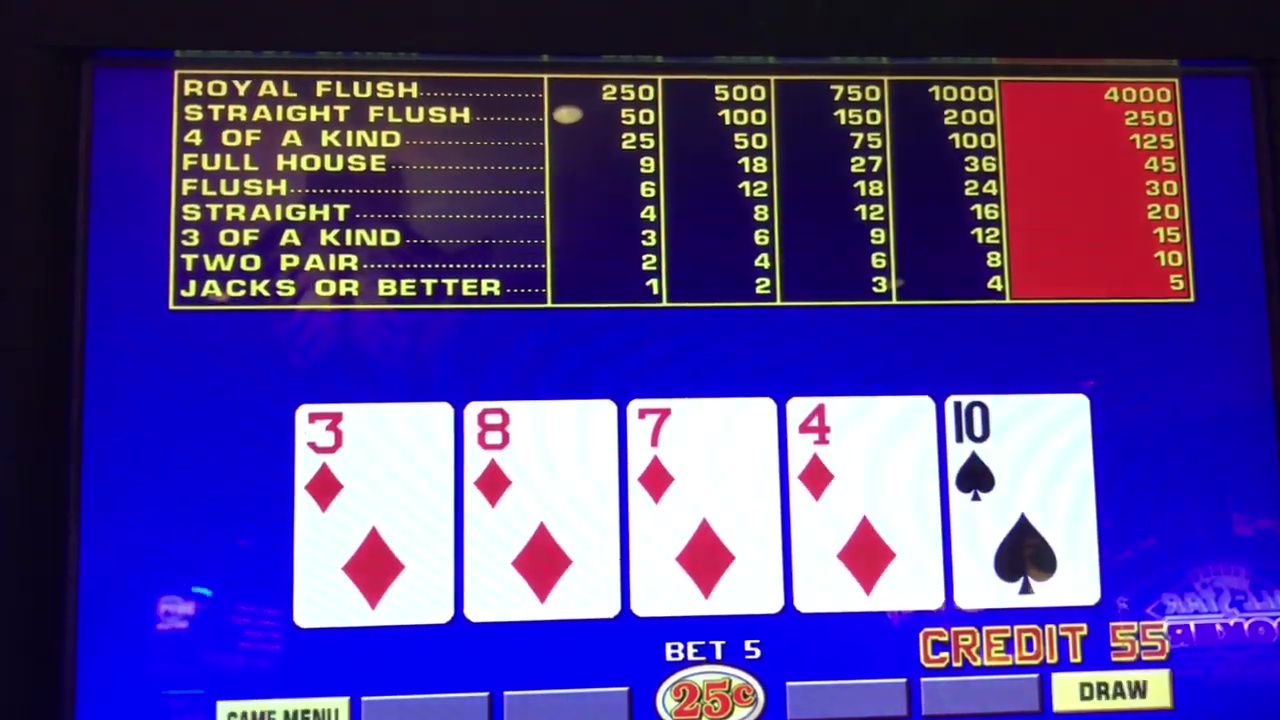D3: (299, 405, 450, 513)
D4: (794, 395, 930, 502)
D7: (632, 400, 777, 506)
D8: (465, 401, 611, 510)
ST: (951, 396, 1092, 499)
